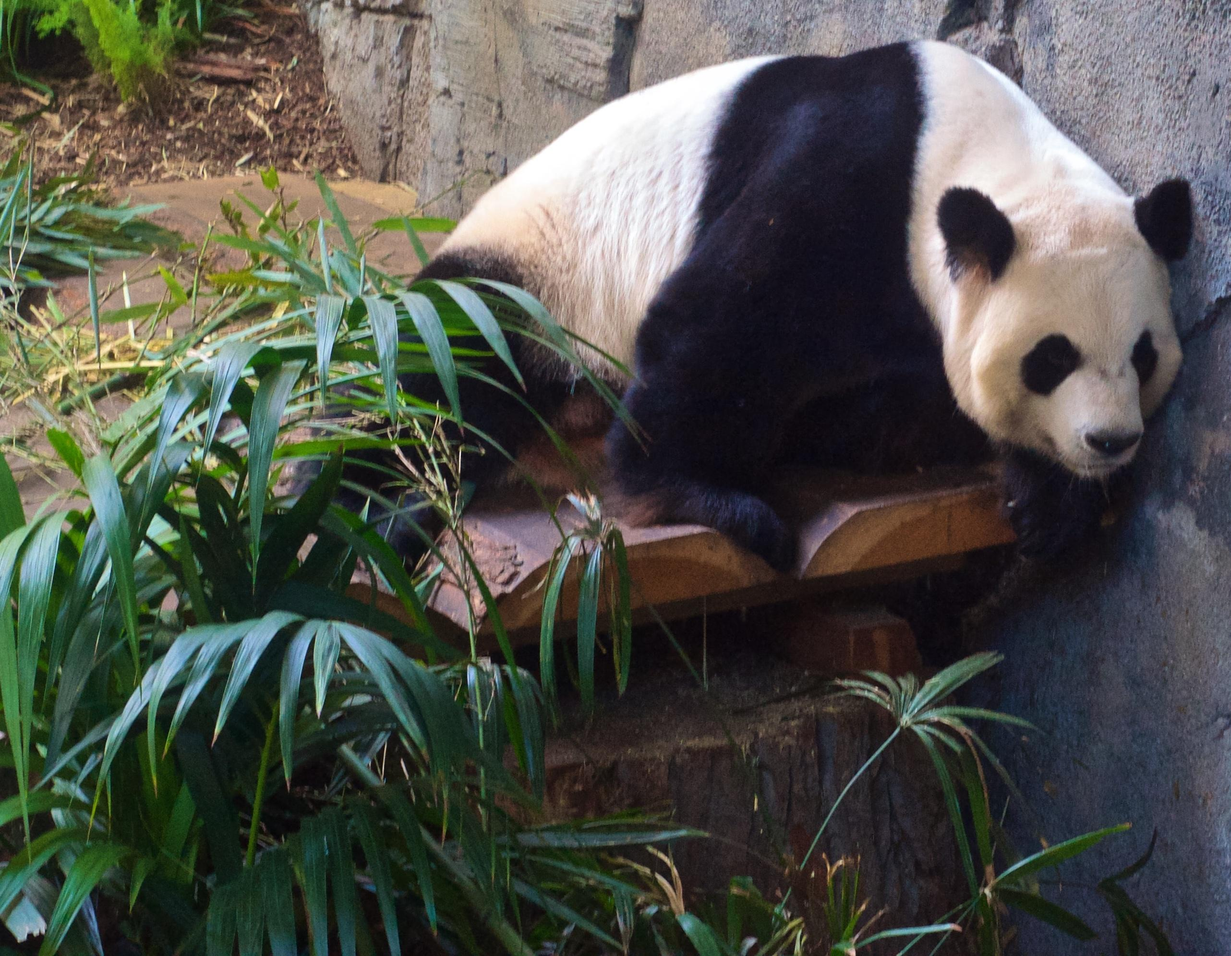panda: (413, 44, 1206, 574)
